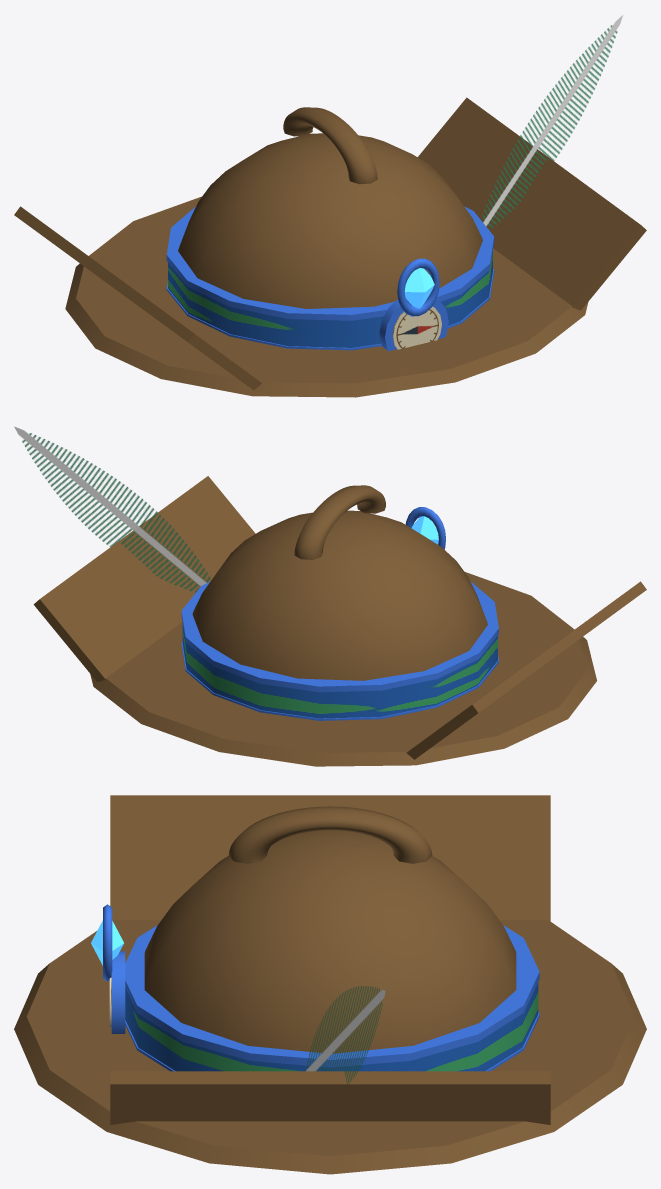
Rendered from hat_eqsa1.glb.
3 renders of one model, top to bottom at view 1: azimuth 30°, elevation 25°; view 2: azimuth 150°, elevation 25°; view 3: azimuth 270°, elevation 25°, orthographic. The views are drawn at different scales.
Size of the model in its own units: 4.24 by 1.42 by 3.33.
6 materials, 3 textured.
